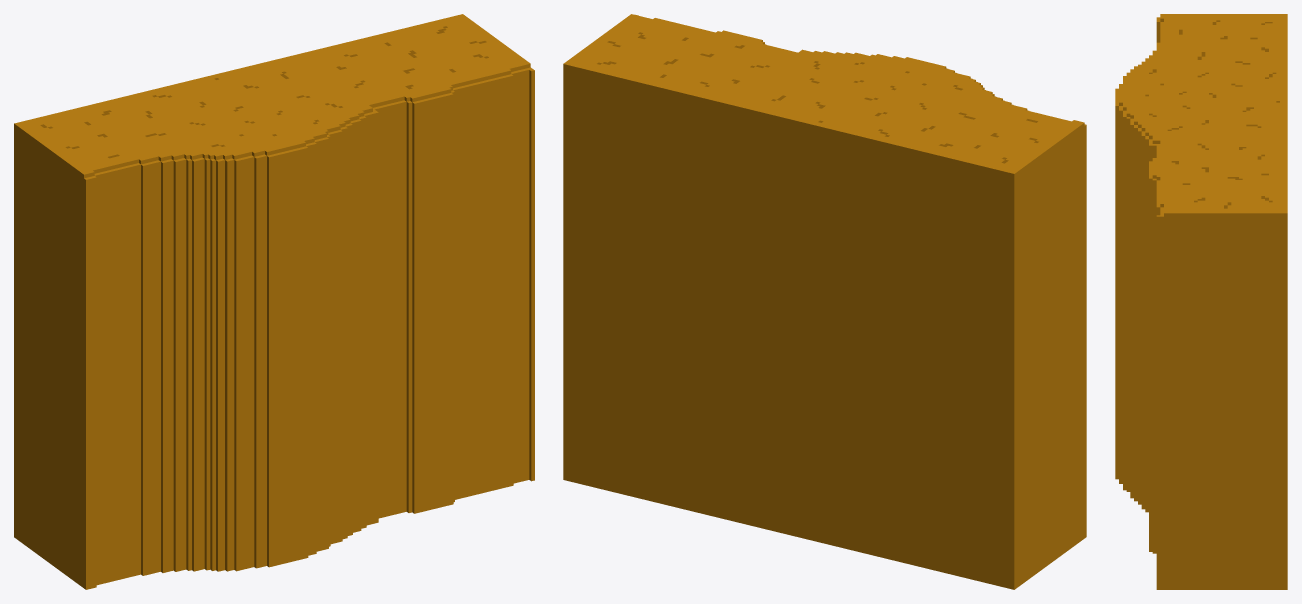
Rendered from CanyonBackgroundRepeat.obj.
3 renders of one model, left to right at view 1: azimuth 30°, elevation 25°; view 2: azimuth 150°, elevation 25°; view 3: azimuth 270°, elevation 25°, orthographic. The views are drawn at different scales.
Bounding box in the file's own units: 126 × 111 × 46.
1 material, 1 textured.
